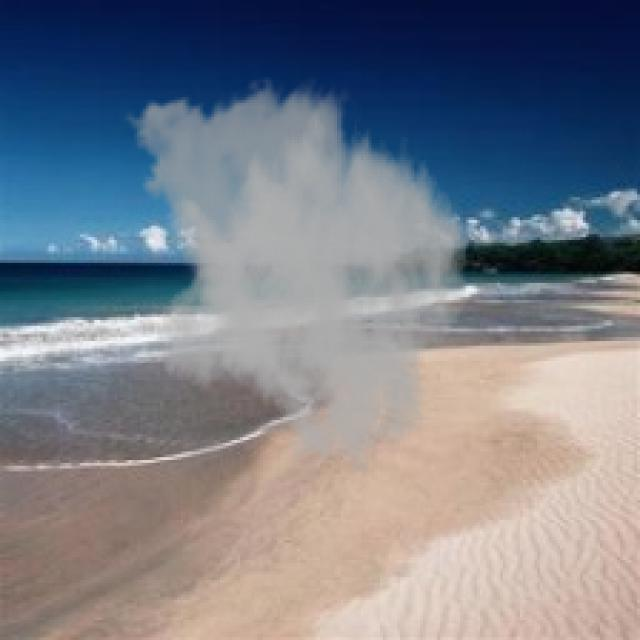Smoke: (120, 74, 469, 477)
